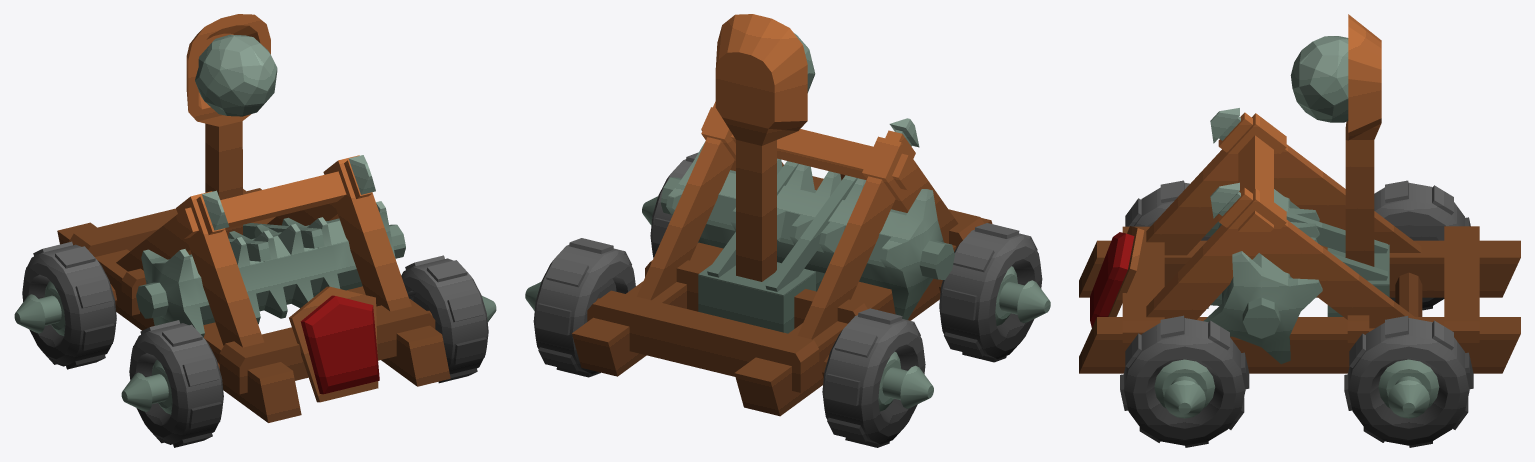
File: catapult.fbx
3 renders of one model, left to right at view 1: azimuth 30°, elevation 25°; view 2: azimuth 150°, elevation 25°; view 3: azimuth 270°, elevation 25°, orthographic. The views are drawn at different scales.
Parts seen in each view (by area): view 1: Catapult Body, Catapult Body.001, Wheel Right 0, Wheel Right 1, Wheel Left 0, Beam, Projectile; view 2: Catapult Body, Beam, Catapult Body.001, Wheel Right 1, Wheel Right 0, Wheel Left 1, Wheel Left 0; view 3: Catapult Body, Wheel Left 0, Wheel Left 1, Catapult Body.001, Beam, Projectile, Wheel Right 1, Wheel Right 0.
Part boxes in pixels (x1,y1,x2,y2): Catapult Body: [57, 155, 450, 422]; Catapult Body.001: [136, 201, 405, 337]; Wheel Right 0: [121, 320, 223, 447]; Wheel Right 1: [14, 241, 116, 369]; Wheel Left 0: [401, 255, 496, 383]; Beam: [186, 14, 270, 236]; Projectile: [195, 34, 277, 116]; Catapult Body: [572, 101, 992, 416]; Beam: [715, 14, 807, 281]; Catapult Body.001: [660, 141, 954, 319]; Wheel Right 1: [822, 308, 933, 447]; Wheel Right 0: [939, 223, 1050, 362]; Wheel Left 1: [525, 238, 635, 377]; Wheel Left 0: [642, 152, 698, 258]; Catapult Body: [1079, 108, 1520, 373]; Wheel Left 0: [1120, 315, 1249, 447]; Wheel Left 1: [1344, 315, 1473, 447]; Catapult Body.001: [1203, 189, 1322, 364]; Beam: [1345, 14, 1381, 266]; Projectile: [1290, 36, 1348, 122]; Wheel Right 1: [1374, 180, 1470, 310]; Wheel Right 0: [1125, 180, 1211, 308].
Size of the model in its own units: 199 by 172 by 197.
